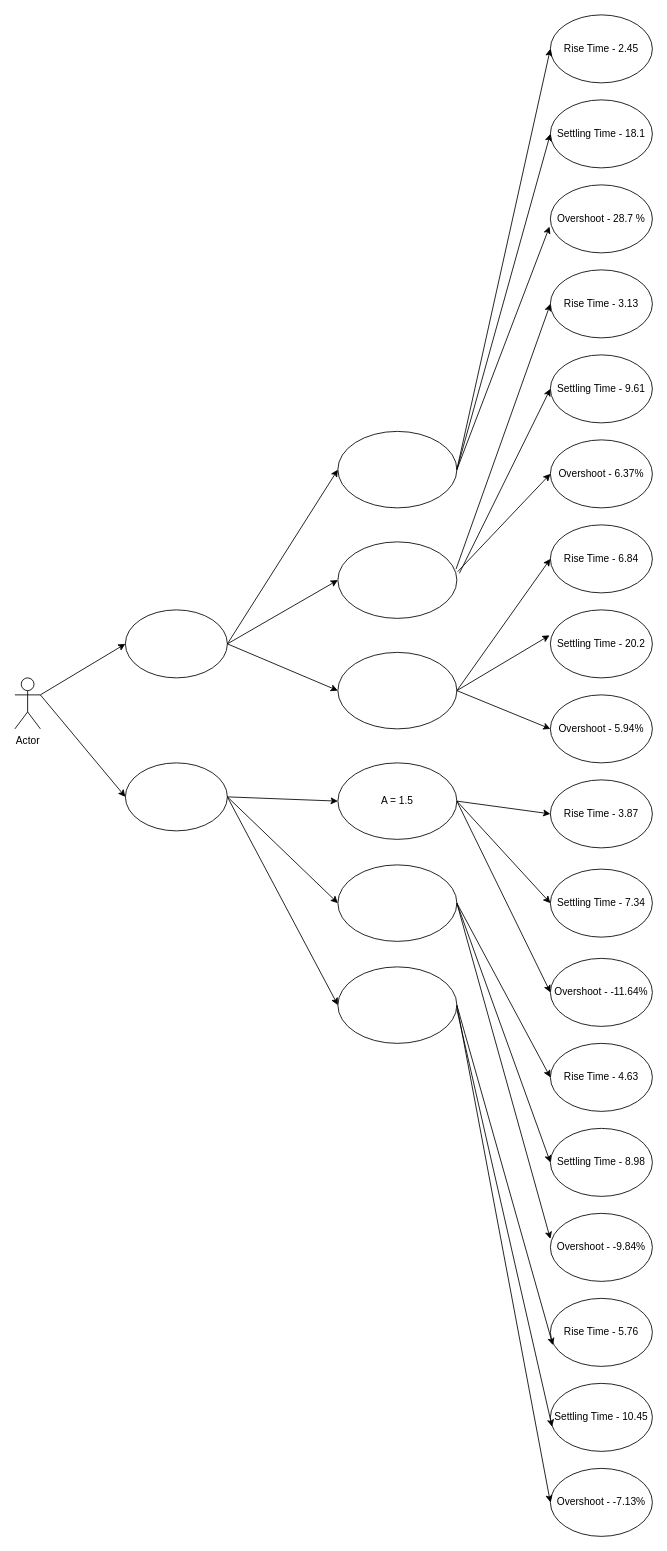
Image size: 667x1551. Some labels were removed from this diagram. Each missing label, with the centre of its shape:
"A = 3" goes at (397,902).
"A = 6" goes at (397,1004).
"IMC" goes at (176,796).
"kc(.62), Ti(.19), Td(0)" goes at (397,690).
"kc(2.35), Ti(.5), Td(2.76)" goes at (397,579).
"kc(2.35), Ti(0), Td(0)" goes at (397,469).
"PID" goes at (176,643).
